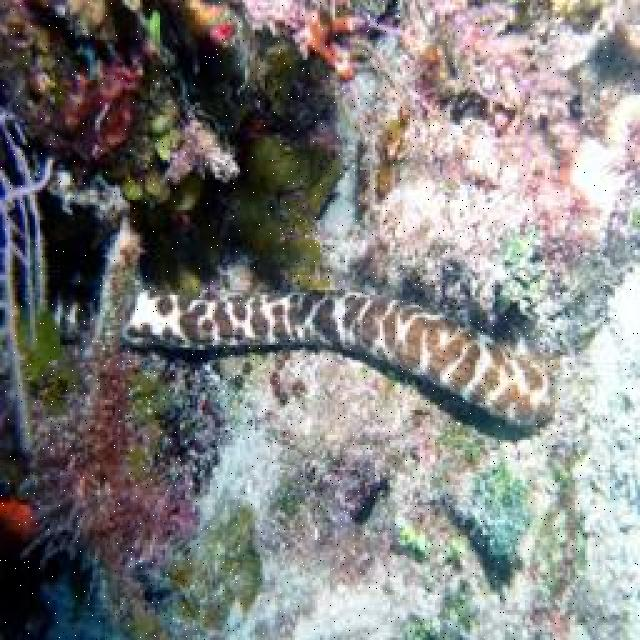reefs: (118, 287, 559, 425)
